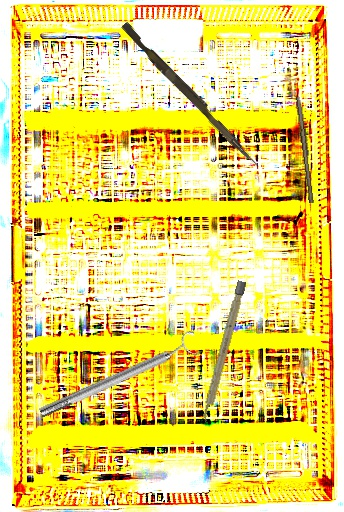Fixation Ring: (34, 329, 204, 425)
Pusher: (117, 21, 264, 168)
Scalpel Handle: (200, 280, 247, 423), (294, 96, 317, 204)
